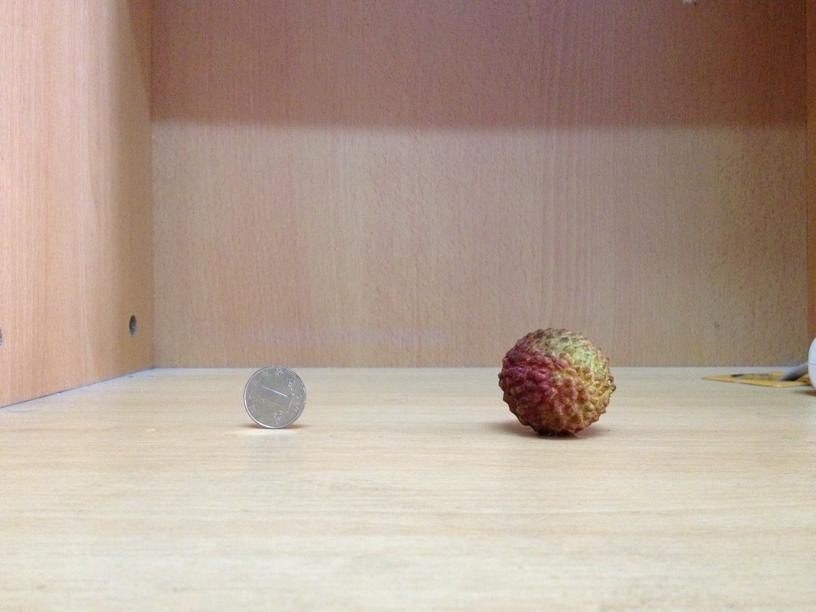coin: (245, 366, 307, 428)
litchi: (499, 329, 613, 436)
